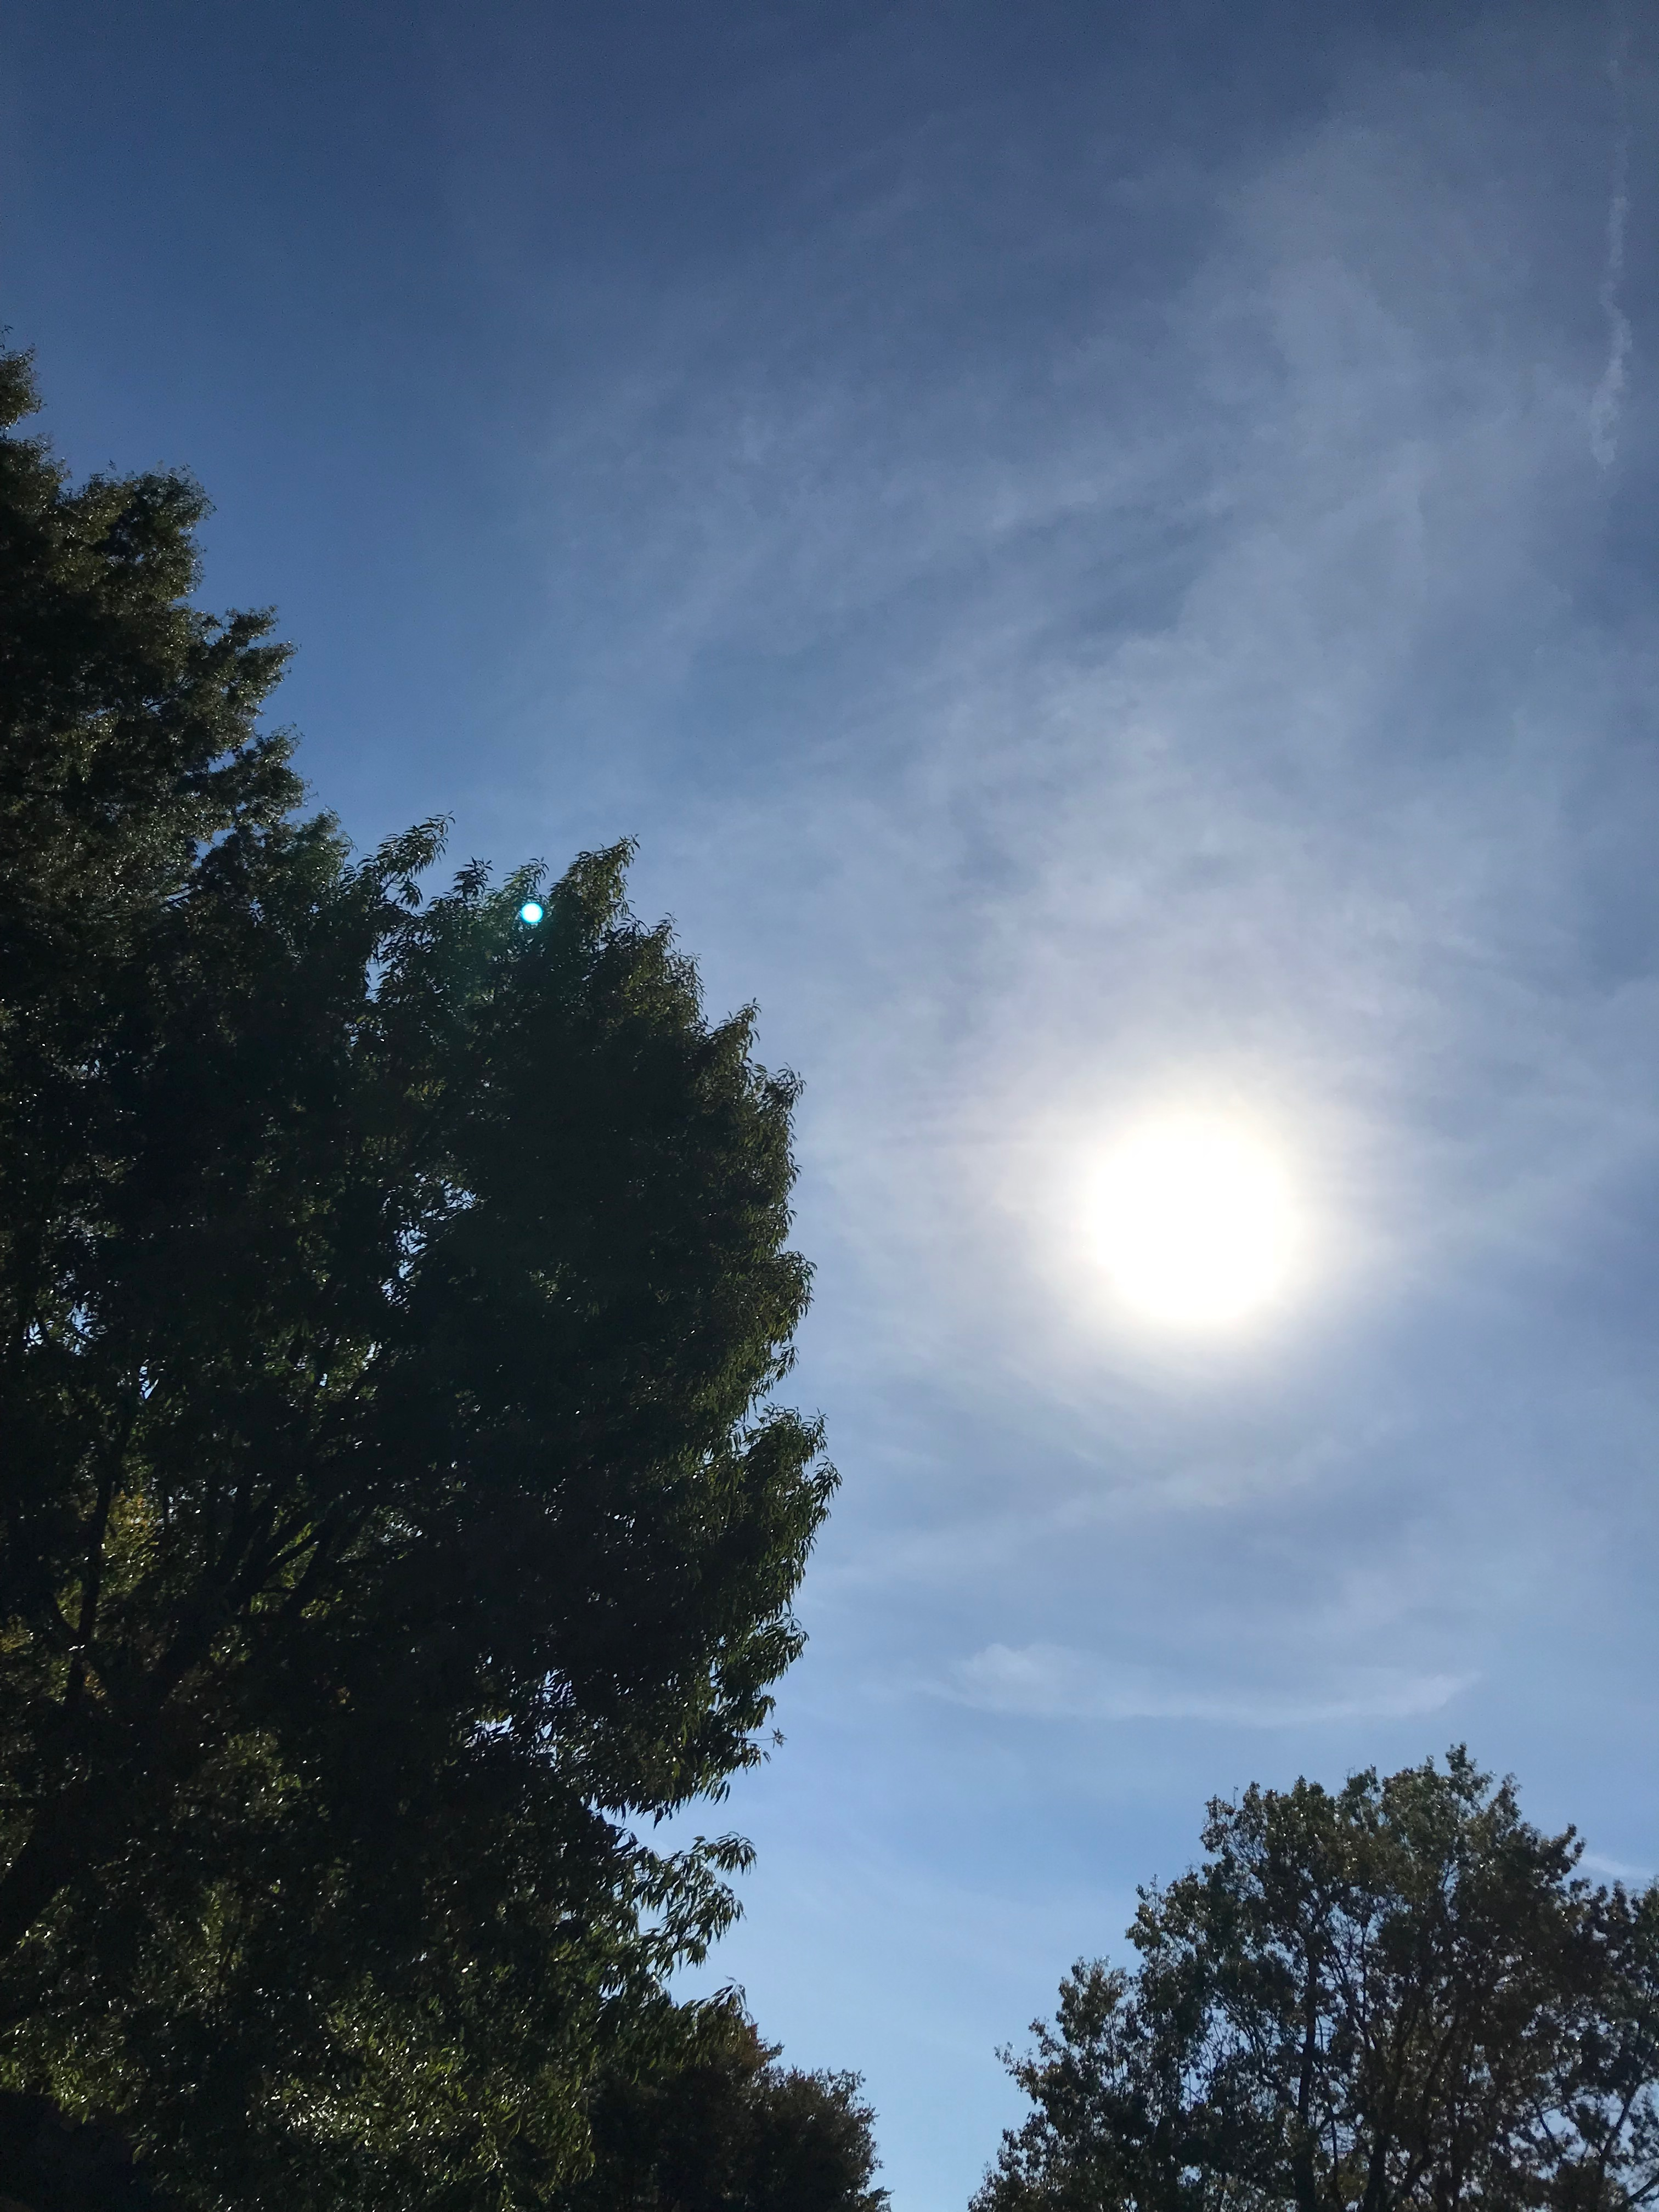flare: (521, 902, 545, 925)
